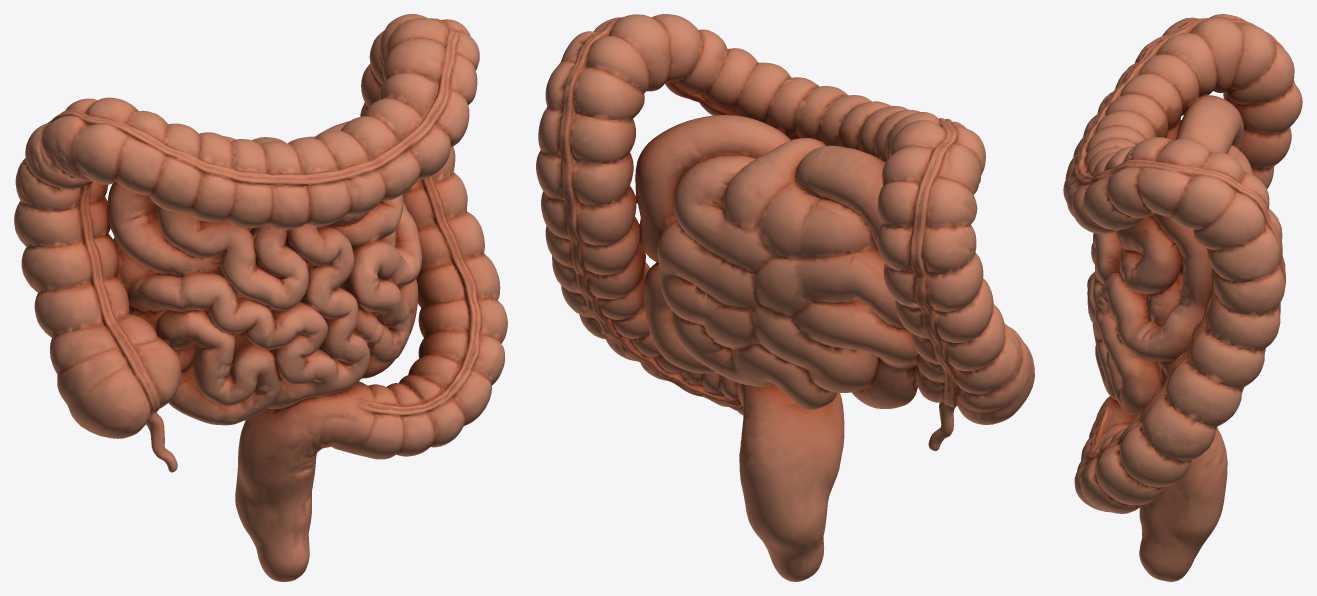
File: intestine.glb
3 views of the same model, side by side, from view 1: azimuth 30°, elevation 25°; view 2: azimuth 150°, elevation 25°; view 3: azimuth 270°, elevation 25° (orthographic). The views are drawn at different scales.
Visible parts, largest first — view 1: tripo_node_62b379d0-ce68-4c4f-9391-eb1f11136f30; view 2: tripo_node_62b379d0-ce68-4c4f-9391-eb1f11136f30; view 3: tripo_node_62b379d0-ce68-4c4f-9391-eb1f11136f30.
Part boxes in pixels (x1,y1,x2,y2): tripo_node_62b379d0-ce68-4c4f-9391-eb1f11136f30: [14, 14, 507, 581]; tripo_node_62b379d0-ce68-4c4f-9391-eb1f11136f30: [536, 14, 1034, 581]; tripo_node_62b379d0-ce68-4c4f-9391-eb1f11136f30: [1063, 14, 1302, 581].
Bounding box in the file's own units: 0.8859 × 0.9999 × 0.4268.
Materials: 1 (1 with a texture image).
